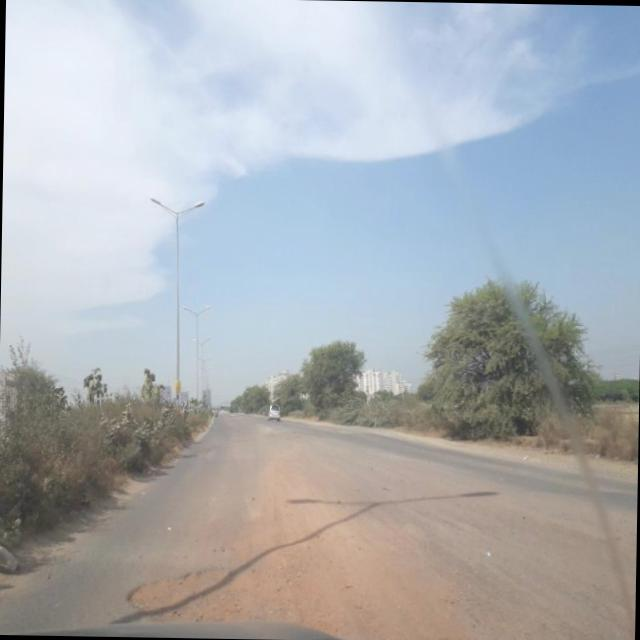pothole: (100, 497, 468, 628)
